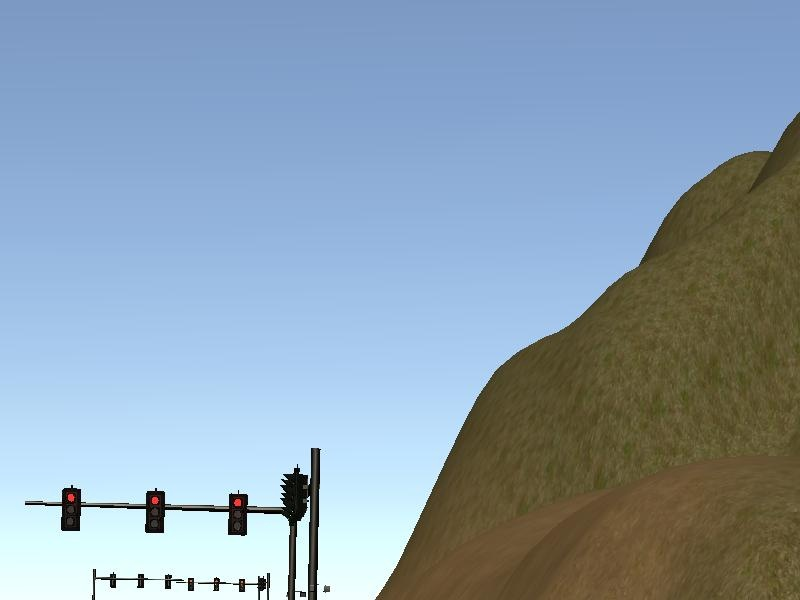red: (224, 487, 251, 540), (57, 484, 84, 535), (142, 487, 169, 537)
